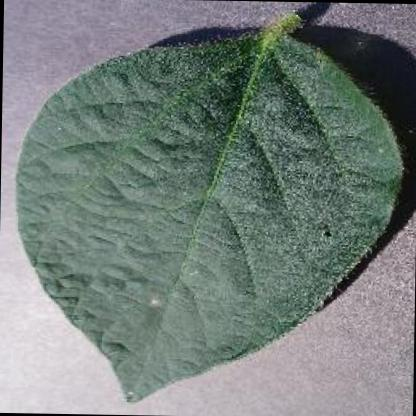soy: (6, 0, 405, 411)
